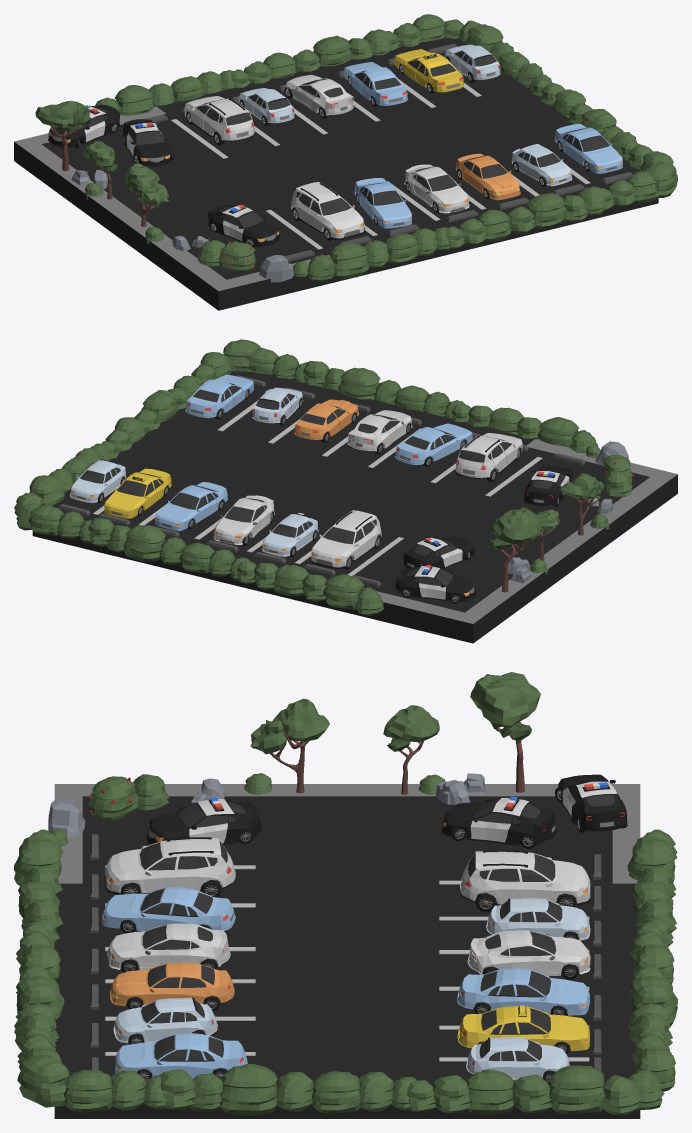
Rendered from parkinglot.fbx.
3 renders of one model, top to bottom at view 1: azimuth 30°, elevation 25°; view 2: azimuth 150°, elevation 25°; view 3: azimuth 270°, elevation 25°, orthographic. The views are drawn at different scales.
Visible parts, largest first — view 1: Cube, SUV.001, SUV, NormalCar1, SportsCar2, Cop, NormalCar1.001, Taxi, SportsCar, SportsCar2.002, NormalCar1.002, Cop.001 (+38 smaller); view 2: Cube, SUV, SUV.001, NormalCar1.002, Cop.002, Taxi, NormalCar1.001, SportsCar2.002, NormalCar1, CommonTree_4.001, SportsCar2, SportsCar (+35 smaller); view 3: Cube, SUV.001, SUV, NormalCar1.002, NormalCar1.001, SportsCar2, SportsCar2.002, NormalCar1, Cop.001, Taxi, SportsCar, Cop (+40 smaller).
Part boxes in pixels (x1,y1,x2,y2): Cube: (14,37,658,310); SUV.001: (290,182,365,240); SUV: (183,96,255,141); NormalCar1: (554,124,622,173); SportsCar2: (404,164,469,213); Cop: (208,204,280,247); NormalCar1.001: (354,178,412,228); Taxi: (394,49,463,92); SportsCar: (455,153,520,200); SportsCar2.002: (285,74,354,115); NormalCar1.002: (344,62,407,105); Cop.001: (122,119,171,167); Cube: (32,371,677,643); SUV: (310,510,382,568); SUV.001: (454,433,523,478); NormalCar1.002: (155,482,227,531); Cop.002: (395,565,475,602); Taxi: (104,468,171,518); NormalCar1.001: (395,423,472,464); SportsCar2.002: (213,495,274,544); NormalCar1: (185,374,253,417); CommonTree_4.001: (489,507,541,592); SportsCar2: (347,410,412,451); SportsCar: (294,399,359,439); Cube: (54,784,640,1118); SUV.001: (104,837,236,894); SUV: (459,850,591,905); NormalCar1.002: (457,968,589,1015); NormalCar1.001: (102,887,235,931); SportsCar2: (107,923,230,970); SportsCar2.002: (467,930,590,975); NormalCar1: (115,1033,247,1078); Cop.001: (441,796,556,845); Taxi: (457,1005,589,1051); SportsCar: (110,962,234,1006); Cop: (146,797,261,844).
Size of the model in its own units: 2550 by 478 by 2114.
